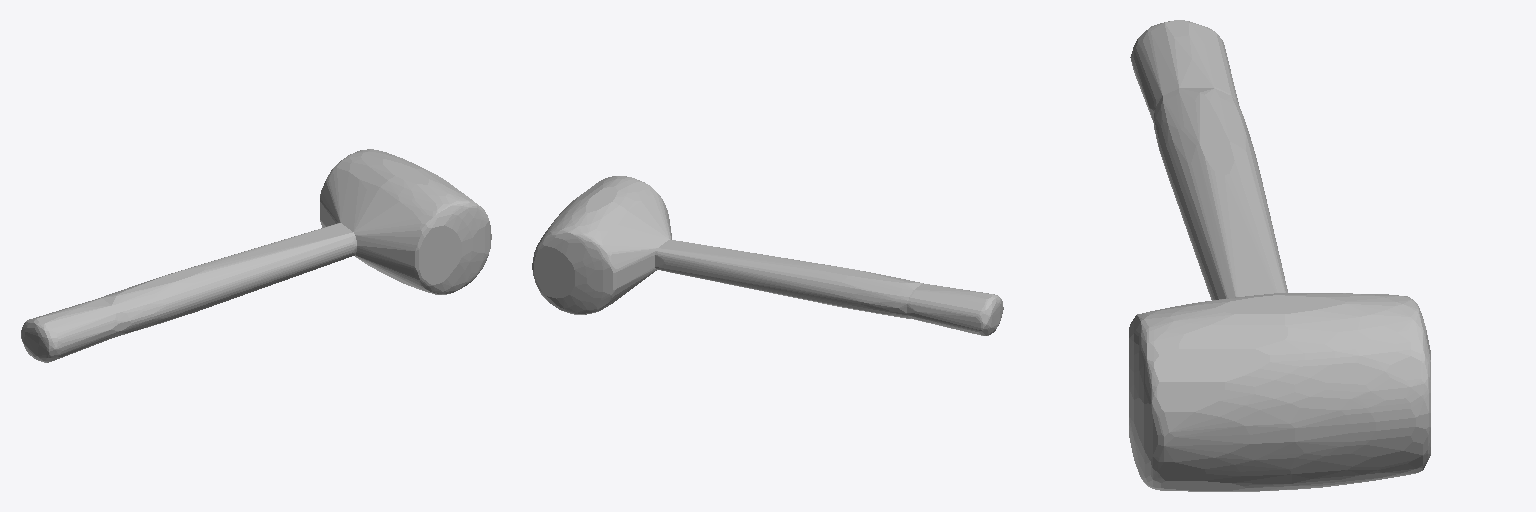
robot.urdf — root:
<robot name="root">
  <link name="link_coacd_convex_piece_0">
    <inertial>
      <origin xyz="0 0 0" rpy="0 0 0"/>
      <inertia ixx="2.15E-03" ixy="-3.16E-05" ixz="-7.01E-04" iyy="1.92E-02" iyz="-5.16E-07" izz="1.82E-02"/>
    </inertial>
    <visual>
      <origin xyz="0 0 0" rpy="0 0 0"/>
      <geometry>
        <mesh filename="coacd_convex_piece_0.obj" scale="1.0000E+00 1.0000E+00 1.0000E+00"/>
      </geometry>
      <material name="">
        <color rgba="7.50E-01 7.50E-01 7.50E-01 1"/>
      </material>
    </visual>
    <collision>
      <origin xyz="0 0 0" rpy="0 0 0"/>
      <geometry>
        <mesh filename="coacd_convex_piece_0.obj" scale="1.0000E+00 1.0000E+00 1.0000E+00"/>
      </geometry>
    </collision>
  </link>
  <link name="link_coacd_convex_piece_1">
    <inertial>
      <origin xyz="0 0 0" rpy="0 0 0"/>
      <inertia ixx="2.54E-04" ixy="1.78E-05" ixz="-6.44E-04" iyy="-1.95E-03" iyz="-1.87E-06" izz="-2.17E-03"/>
    </inertial>
    <visual>
      <origin xyz="0 0 0" rpy="0 0 0"/>
      <geometry>
        <mesh filename="coacd_convex_piece_1.obj" scale="1.0000E+00 1.0000E+00 1.0000E+00"/>
      </geometry>
      <material name="">
        <color rgba="7.50E-01 7.50E-01 7.50E-01 1"/>
      </material>
    </visual>
    <collision>
      <origin xyz="0 0 0" rpy="0 0 0"/>
      <geometry>
        <mesh filename="coacd_convex_piece_1.obj" scale="1.0000E+00 1.0000E+00 1.0000E+00"/>
      </geometry>
    </collision>
  </link>
  <joint name="link_coacd_convex_piece_1_joint" type="fixed">
    <origin xyz="0 0 0" rpy="0 0 0"/>
    <parent link="link_coacd_convex_piece_0"/>
    <child link="link_coacd_convex_piece_1"/>
  </joint>
  <link name="link_coacd_convex_piece_2">
    <inertial>
      <origin xyz="0 0 0" rpy="0 0 0"/>
      <inertia ixx="2.36E-04" ixy="2.67E-05" ixz="-9.93E-04" iyy="2.51E-03" iyz="5.14E-06" izz="2.29E-03"/>
    </inertial>
    <visual>
      <origin xyz="0 0 0" rpy="0 0 0"/>
      <geometry>
        <mesh filename="coacd_convex_piece_2.obj" scale="1.0000E+00 1.0000E+00 1.0000E+00"/>
      </geometry>
      <material name="">
        <color rgba="7.50E-01 7.50E-01 7.50E-01 1"/>
      </material>
    </visual>
    <collision>
      <origin xyz="0 0 0" rpy="0 0 0"/>
      <geometry>
        <mesh filename="coacd_convex_piece_2.obj" scale="1.0000E+00 1.0000E+00 1.0000E+00"/>
      </geometry>
    </collision>
  </link>
  <joint name="link_coacd_convex_piece_2_joint" type="fixed">
    <origin xyz="0 0 0" rpy="0 0 0"/>
    <parent link="link_coacd_convex_piece_1"/>
    <child link="link_coacd_convex_piece_2"/>
  </joint>
</robot>

--- Facts derived from the render (not from the file) ---
3 views of the same robot in one strip: view 1: azimuth 30°, elevation 25°; view 2: azimuth 150°, elevation 25°; view 3: azimuth 270°, elevation 25° (orthographic).
Robot: root — 3 links, 2 joints (2 fixed); root link link_coacd_convex_piece_0; default pose: every joint at zero.
Visible links, largest first — view 1: link_coacd_convex_piece_0, link_coacd_convex_piece_1, link_coacd_convex_piece_2; view 2: link_coacd_convex_piece_0, link_coacd_convex_piece_1, link_coacd_convex_piece_2; view 3: link_coacd_convex_piece_0, link_coacd_convex_piece_1, link_coacd_convex_piece_2.
Boxes of the visible links, x1,y1,x2,y2 form: link_coacd_convex_piece_0: (320, 149, 491, 294); link_coacd_convex_piece_1: (98, 223, 356, 336); link_coacd_convex_piece_2: (21, 298, 118, 362); link_coacd_convex_piece_0: (532, 176, 671, 314); link_coacd_convex_piece_1: (655, 240, 923, 318); link_coacd_convex_piece_2: (907, 284, 1003, 335); link_coacd_convex_piece_0: (1129, 293, 1430, 491); link_coacd_convex_piece_1: (1154, 88, 1287, 299); link_coacd_convex_piece_2: (1130, 20, 1238, 122).
Size in the robot's own frame: 1.9 by 0.6194 by 0.3922 metres.
3 mesh visuals loaded from 3 distinct referenced files (3 OBJ).
